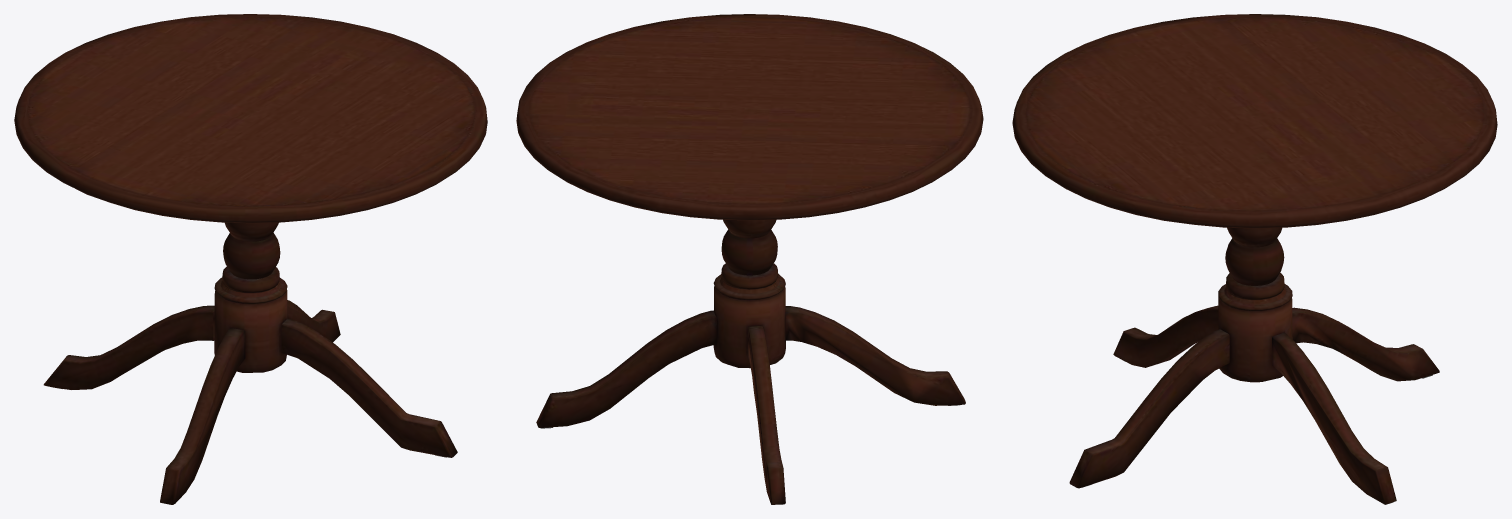
File: round_wooden_table_01.glb
3 views of the same model, side by side, from view 1: azimuth 30°, elevation 25°; view 2: azimuth 150°, elevation 25°; view 3: azimuth 270°, elevation 25° (orthographic). The views are drawn at different scales.
Parts seen in each view (by area): view 1: round_wooden_table_01; view 2: round_wooden_table_01; view 3: round_wooden_table_01.
Part boxes in pixels (x1=…): round_wooden_table_01: x1=14, y1=14, x2=487, y2=504; round_wooden_table_01: x1=516, y1=14, x2=983, y2=504; round_wooden_table_01: x1=1012, y1=14, x2=1497, y2=504.
Size of the model in its own units: 1.4 by 1 by 1.4.
Materials: 1 (1 with a texture image).
